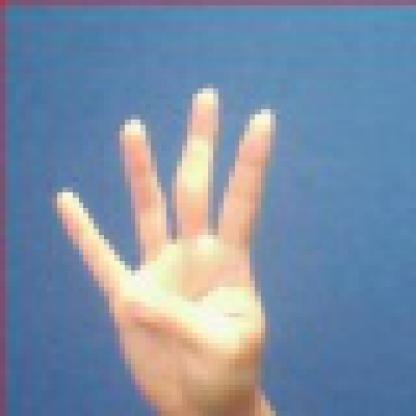four: (31, 73, 317, 411)
